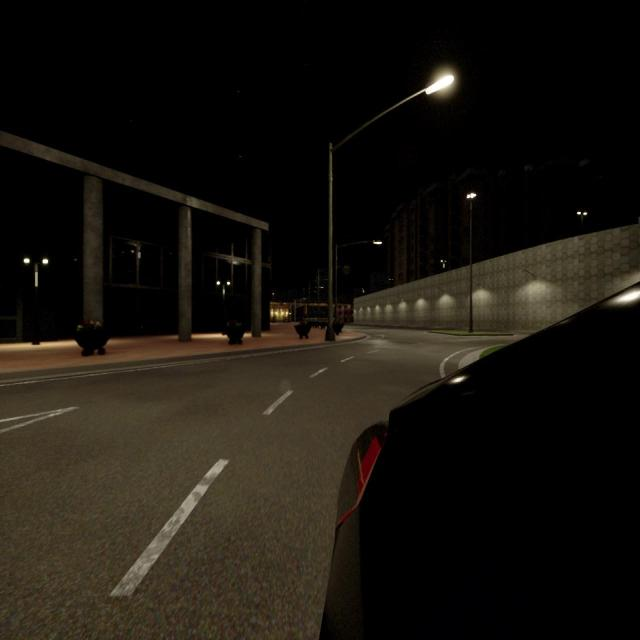Vehicle: (326, 288, 640, 638)
